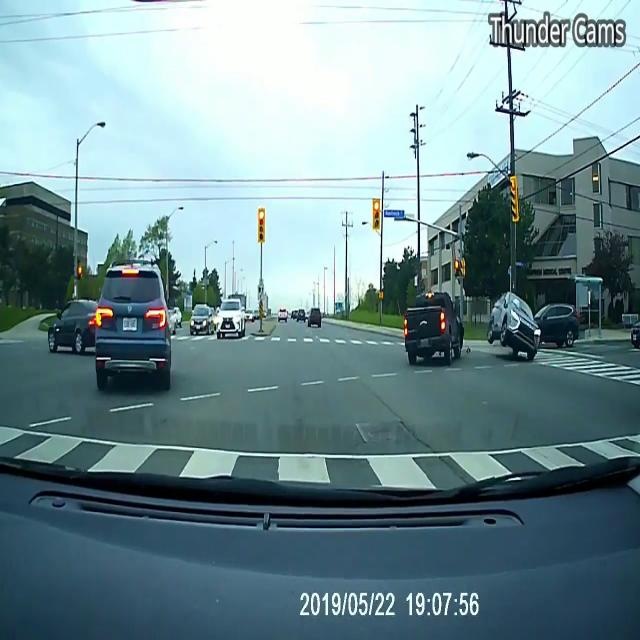accident: (393, 275, 466, 375), (478, 286, 546, 382)
